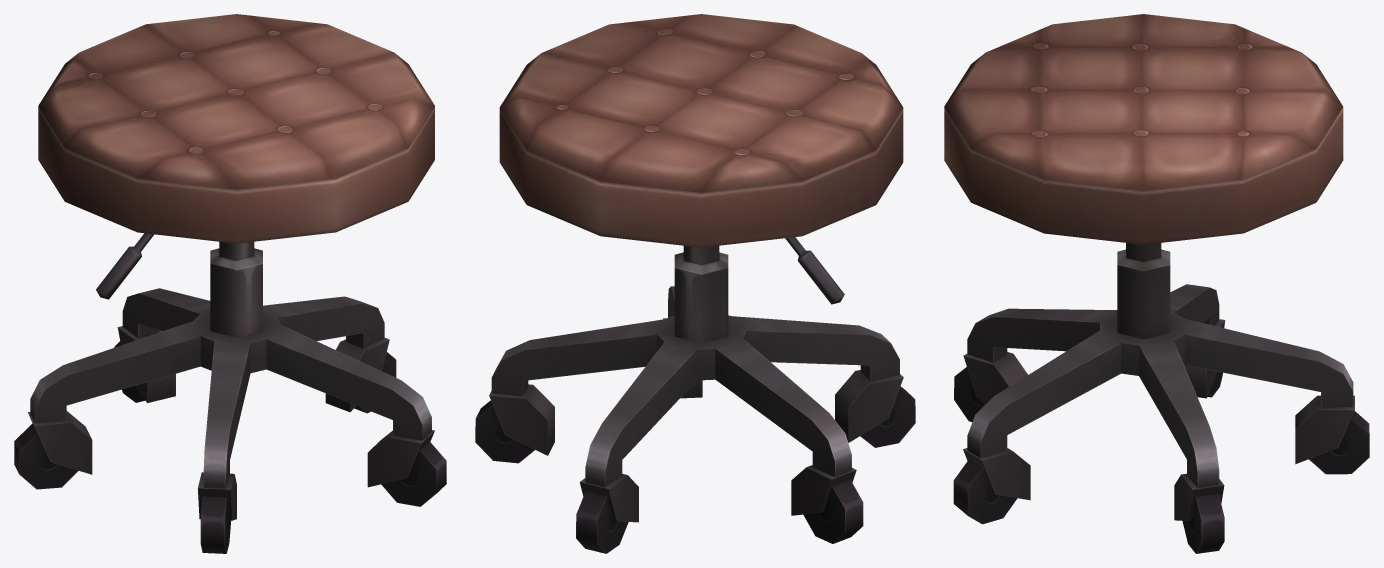
Rendered from furn_syp2017_chair_001.gltf.
The picture shows the model from 3 angles, left to right: view 1: azimuth 30°, elevation 25°; view 2: azimuth 150°, elevation 25°; view 3: azimuth 270°, elevation 25°; orthographic projection.
Visible parts, largest first — view 1: syp2017_chair_001; view 2: syp2017_chair_001; view 3: syp2017_chair_001.
Part boxes in pixels (left/top/right/bottom): syp2017_chair_001: left=14, top=14, right=446, bottom=553; syp2017_chair_001: left=475, top=14, right=915, bottom=553; syp2017_chair_001: left=944, top=14, right=1369, bottom=553.
Size of the model in its own units: 0.2719 by 0.2593 by 0.2645.
Materials: 1 (1 with a texture image).
